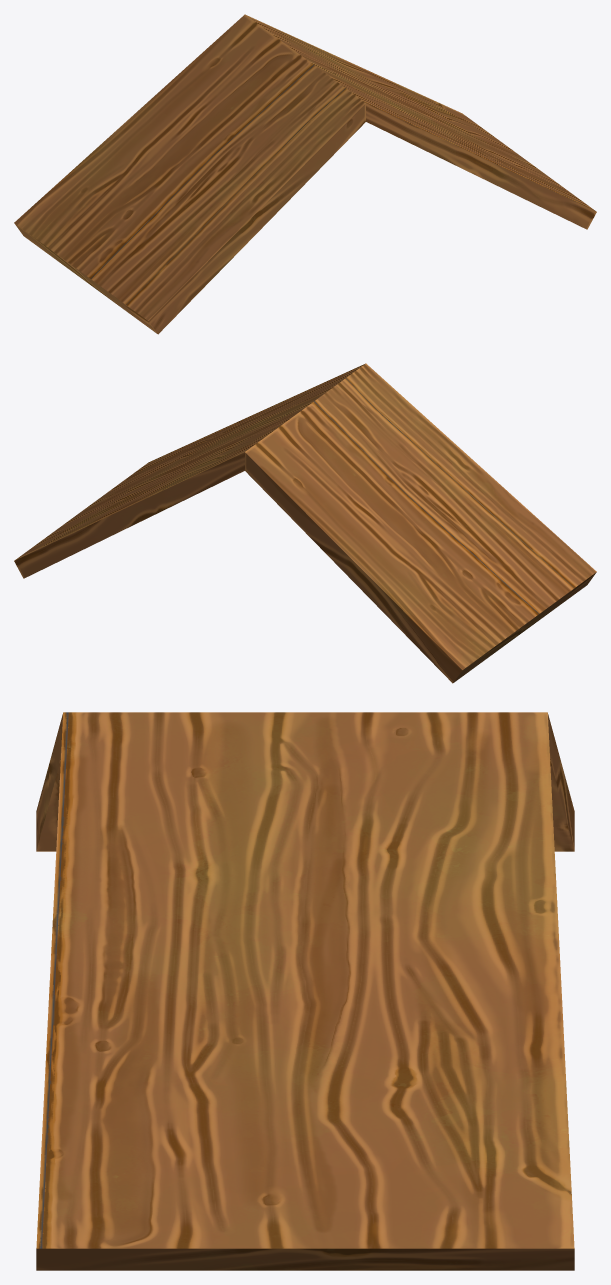
3 views of the same model, one above another, from view 1: azimuth 30°, elevation 25°; view 2: azimuth 150°, elevation 25°; view 3: azimuth 270°, elevation 25° (orthographic). The views are drawn at different scales.
Parts seen in each view (by area): view 1: Cube.753; view 2: Cube.753; view 3: Cube.753.
Boxes of the visible parts, left/top/right/bottom form: Cube.753: left=14, top=14, right=596, bottom=334; Cube.753: left=14, top=363, right=596, bottom=683; Cube.753: left=36, top=712, right=574, bottom=1270.
Size of the model in its own units: 993 by 369 by 516.
1 material, 1 textured.
